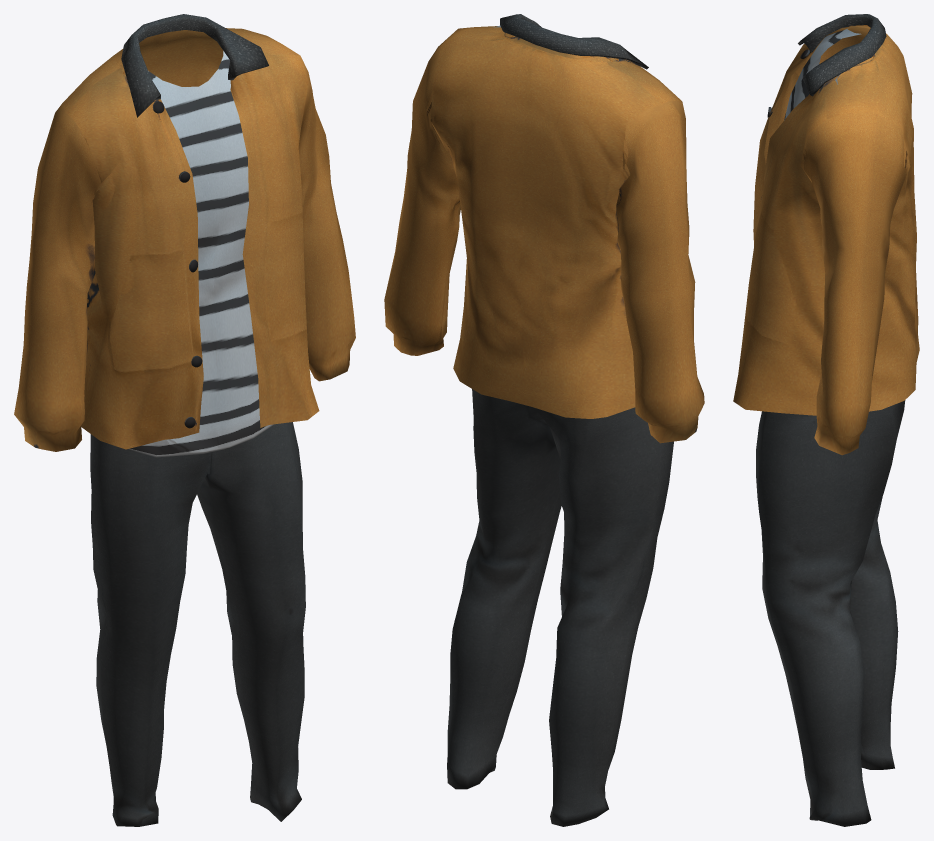
Rendered from fall 1.fbx.
3 renders of one model, left to right at view 1: azimuth 30°, elevation 25°; view 2: azimuth 150°, elevation 25°; view 3: azimuth 270°, elevation 25°, orthographic. The views are drawn at different scales.
Parts seen in each view (by area): view 1: fall; view 2: fall; view 3: fall.
Boxes of the visible parts, left/top/right/bottom form: fall: left=14, top=14, right=355, bottom=826; fall: left=384, top=14, right=704, bottom=826; fall: left=733, top=14, right=919, bottom=826.
Bounding box in the file's own units: 65.55 × 155 × 34.49.
1 material, 1 textured.
